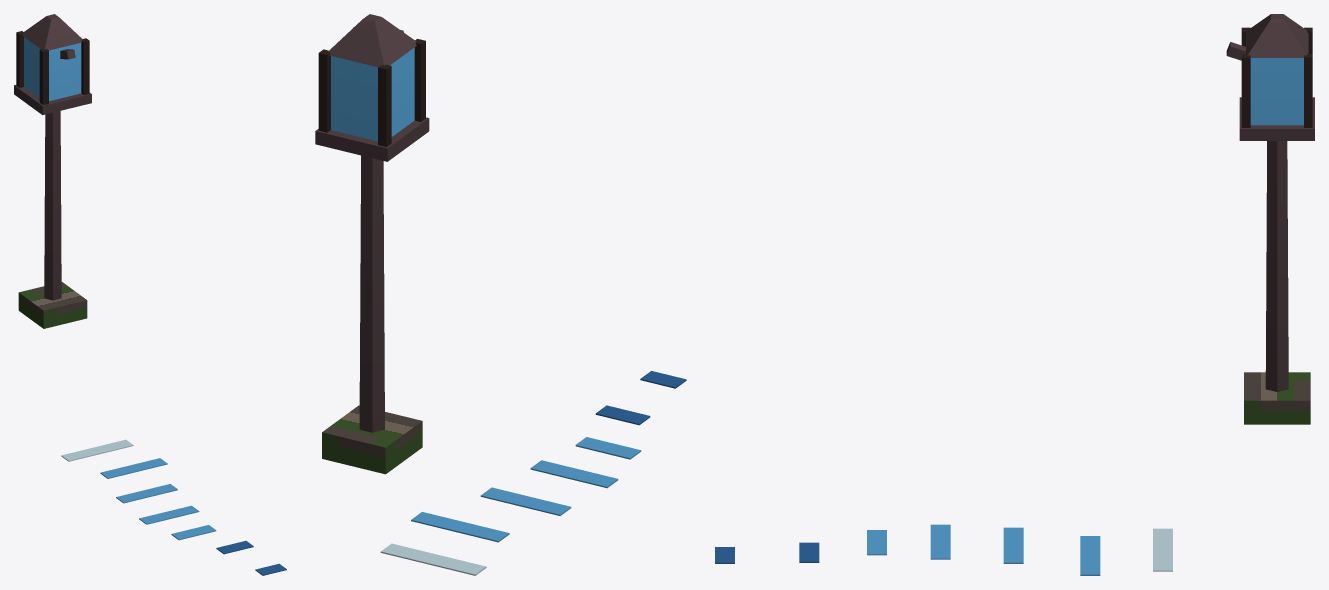
File: pier_lantern.glb
3 views of the same model, side by side, from view 1: azimuth 30°, elevation 25°; view 2: azimuth 150°, elevation 25°; view 3: azimuth 270°, elevation 25° (orthographic). The views are drawn at different scales.
Visible parts, largest first — view 1: pier_lantern; view 2: pier_lantern; view 3: pier_lantern.
Boxes of the visible parts, box(x1,y1,x2,y2) form: pier_lantern: box(14, 14, 286, 575); pier_lantern: box(315, 14, 686, 575); pier_lantern: box(715, 14, 1314, 575).
Size of the model in its own units: 0.5349 by 2.65 by 2.7.
Materials: 3 (1 with a texture image).
